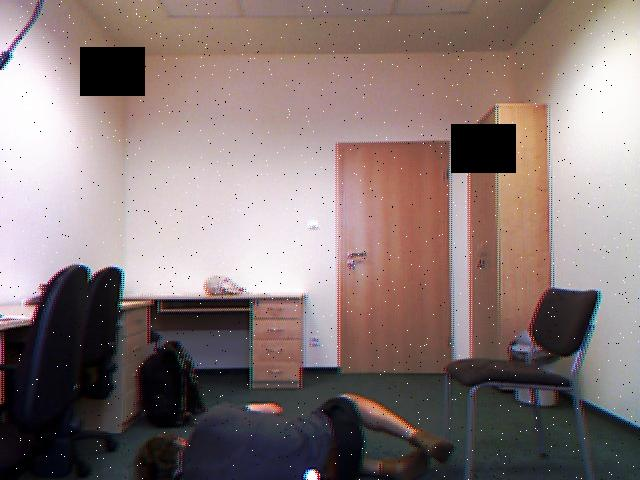fall: (126, 385, 465, 480)
